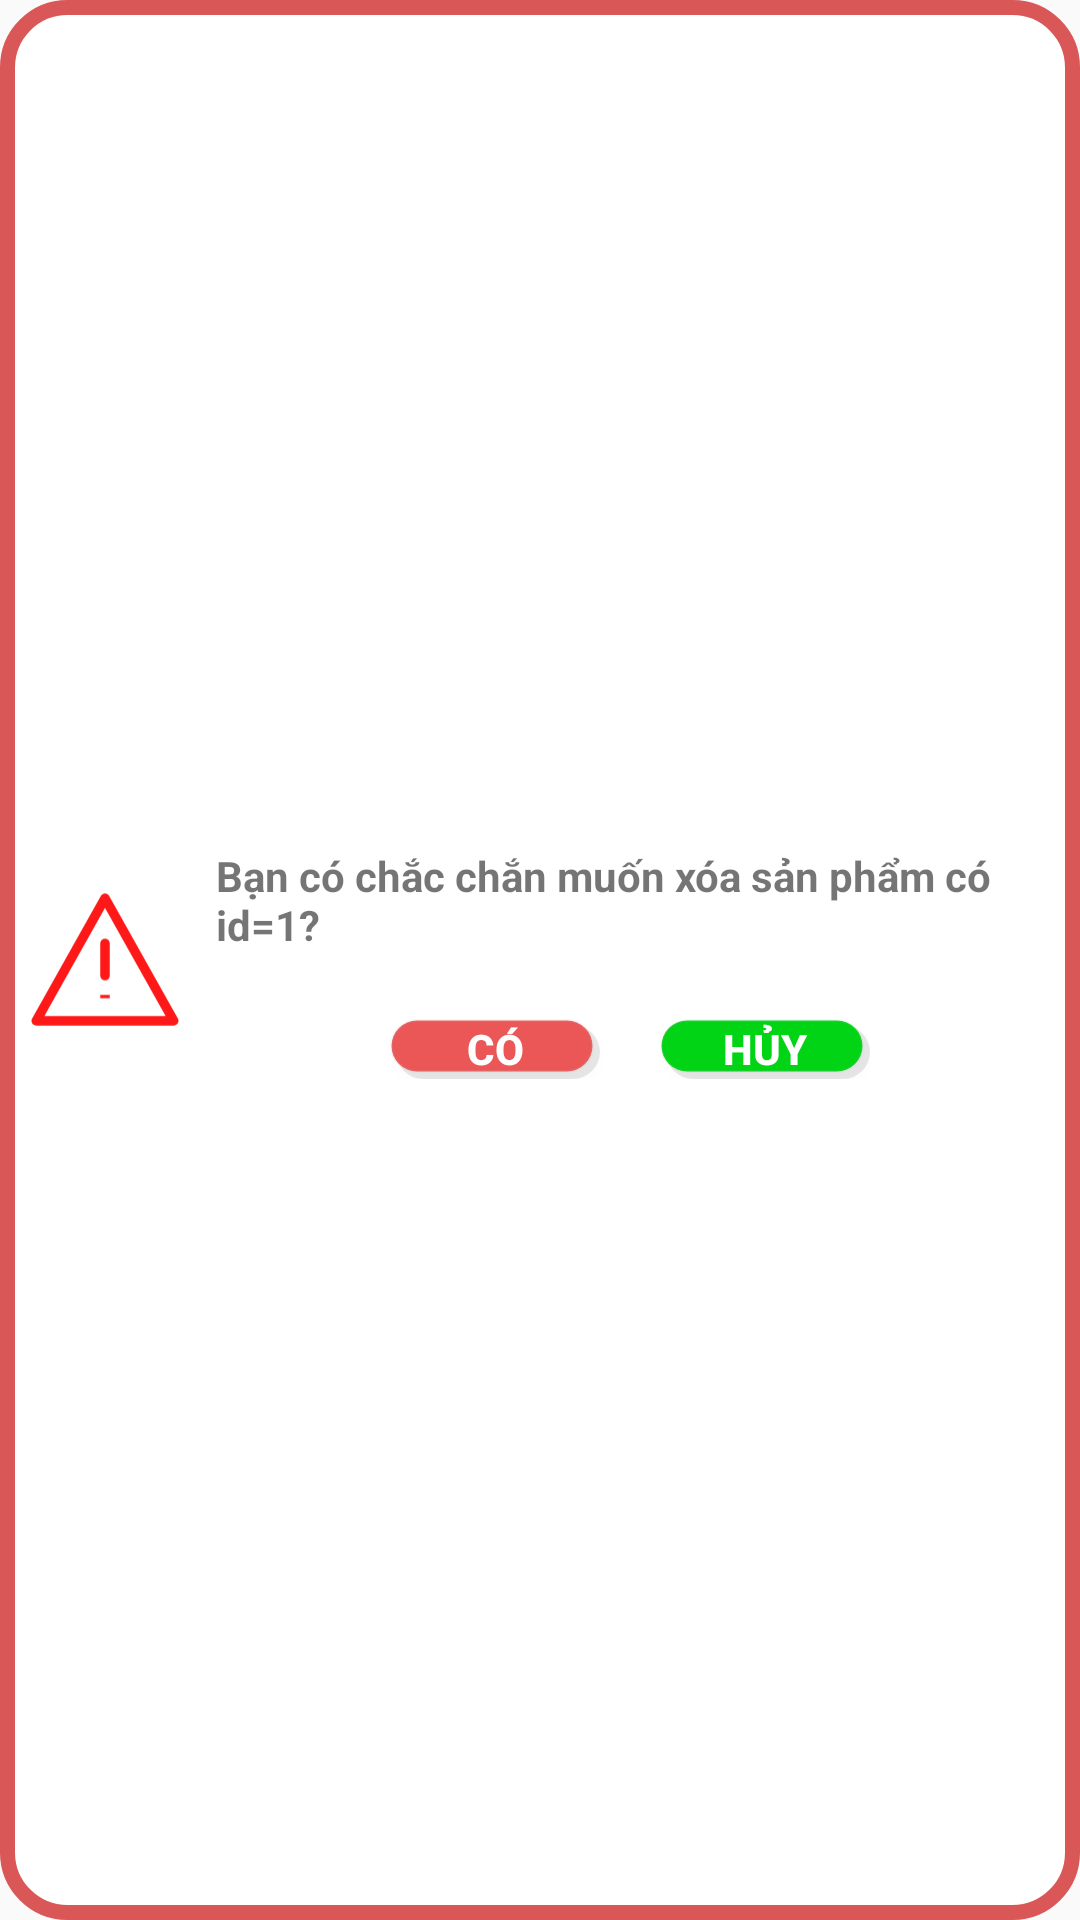

Icon bounding boxes for this 1080px x 1920px phone screenshot, format bbox=[x1, y1, x2, y2]:
park caution: bbox=[31, 893, 179, 1026]
